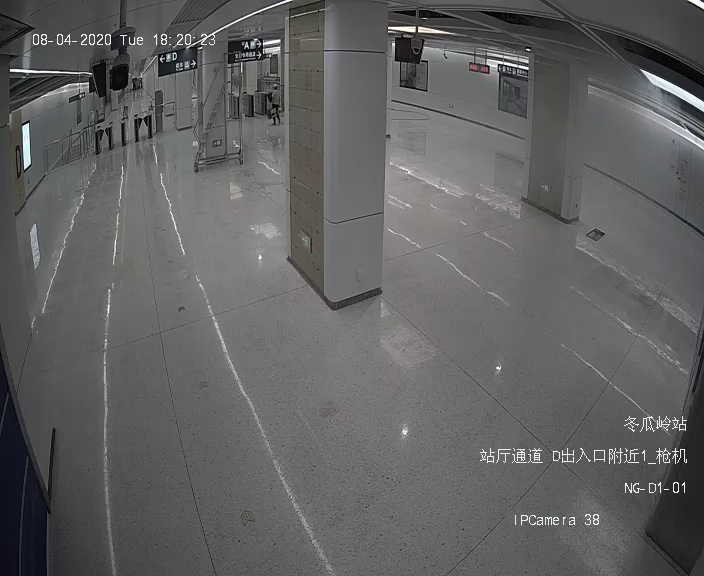smoke: (591, 115, 655, 167), (634, 81, 687, 113), (536, 98, 569, 125)
